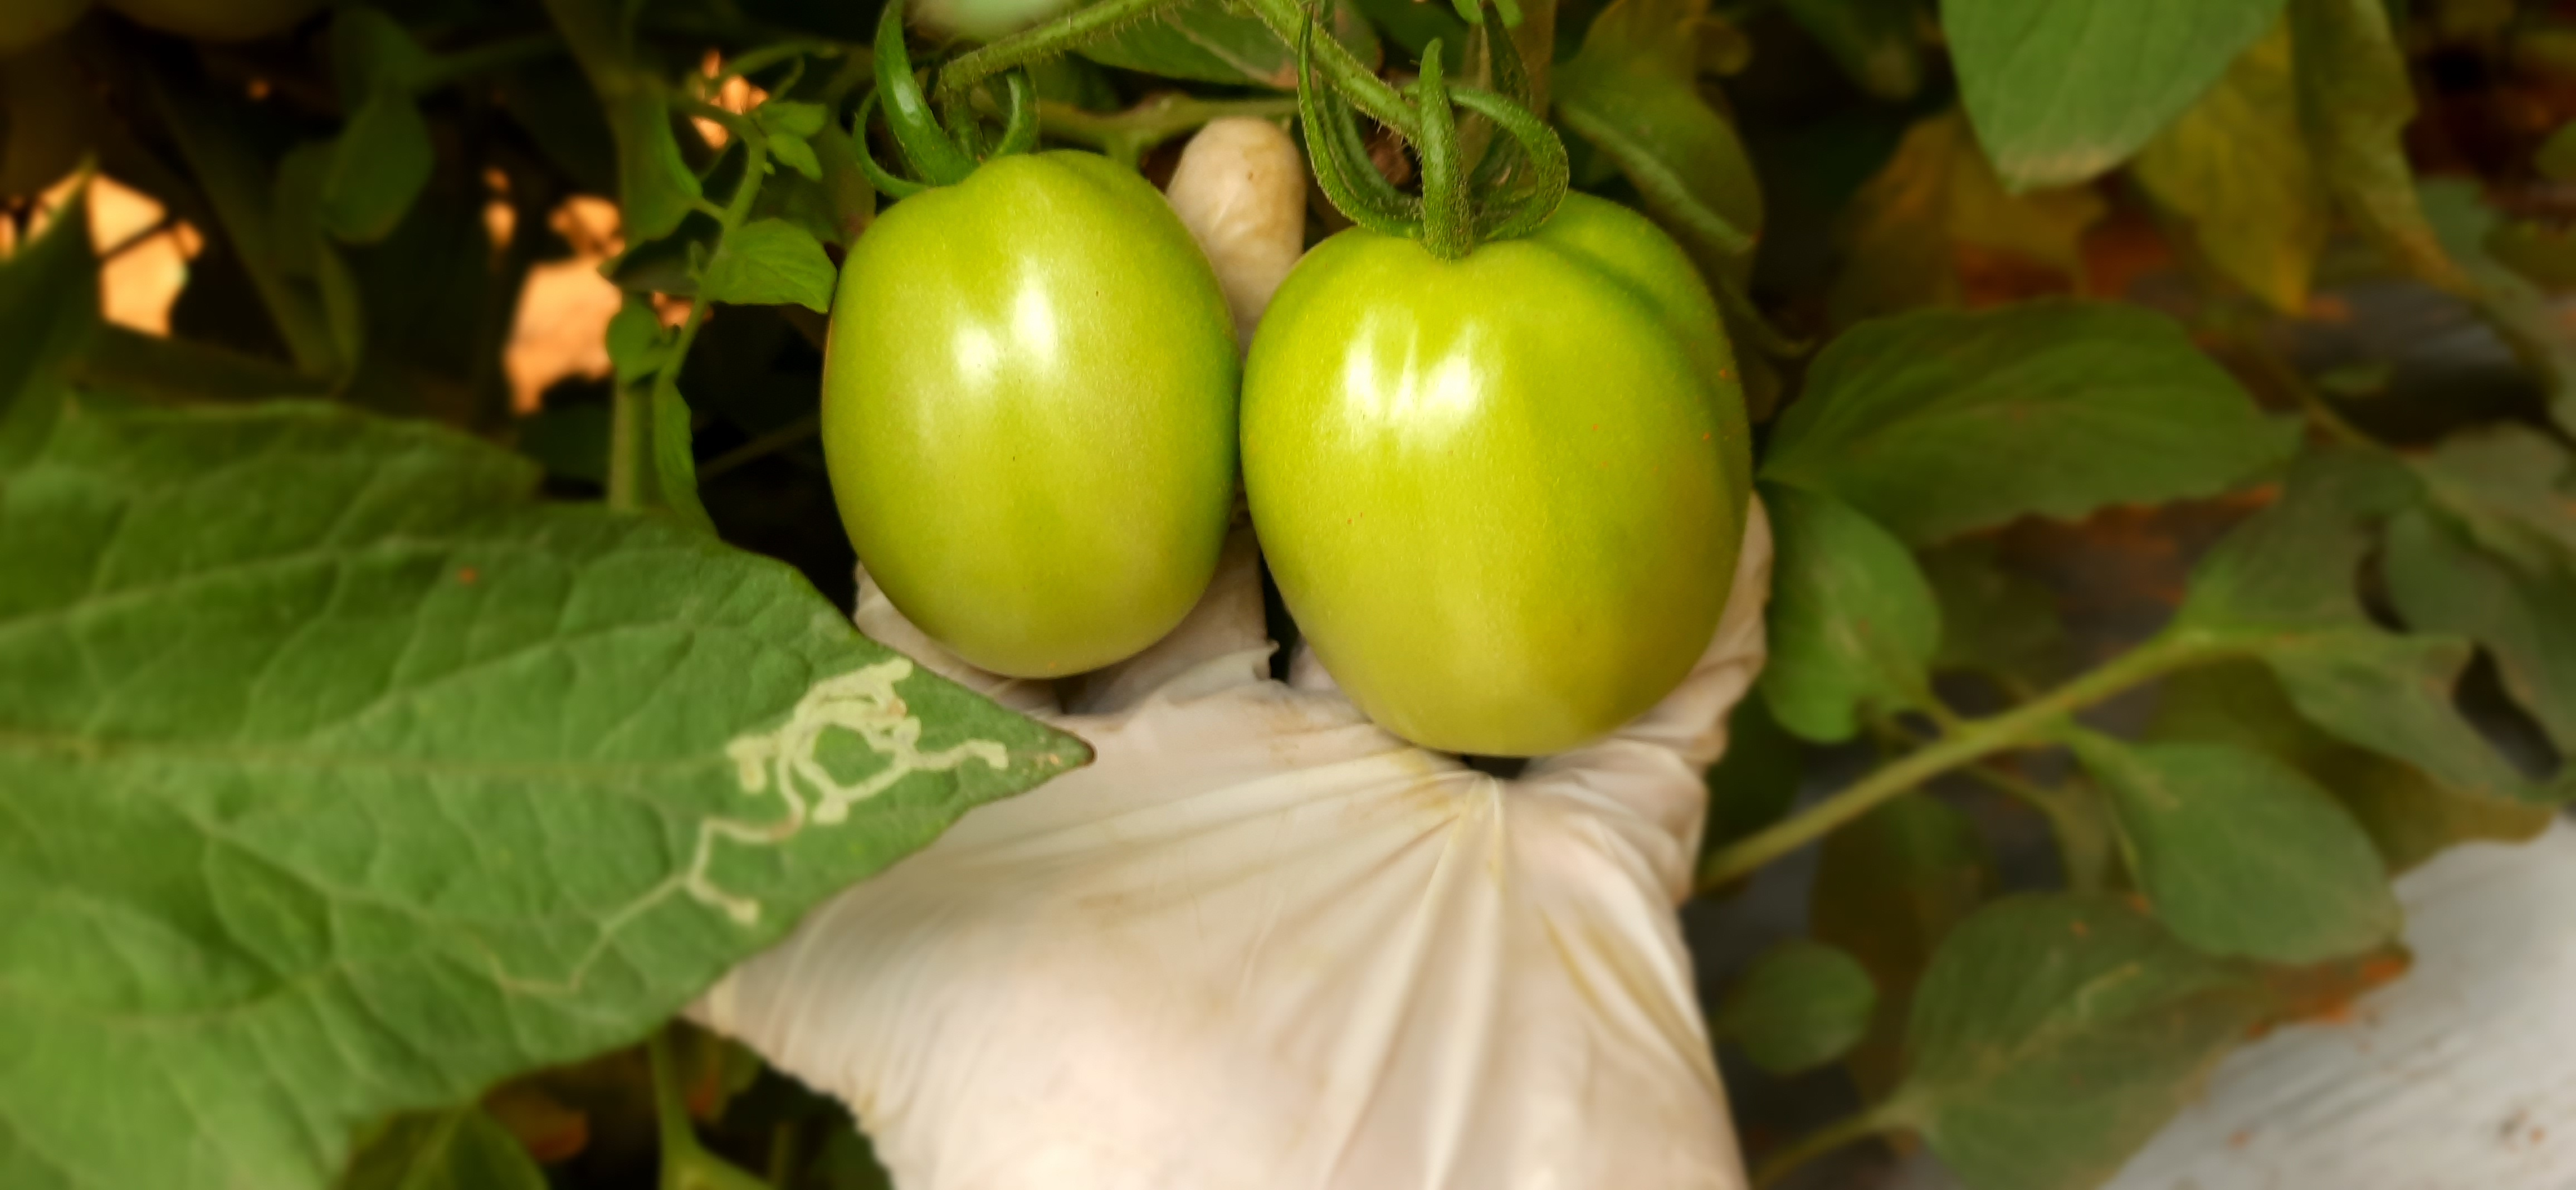raw_tomato: (1244, 178, 1776, 805), (823, 113, 1327, 761)
